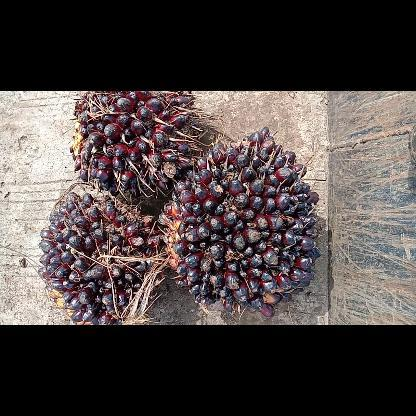TBS mentah: (157, 124, 325, 320), (37, 184, 165, 324), (66, 91, 206, 201)
